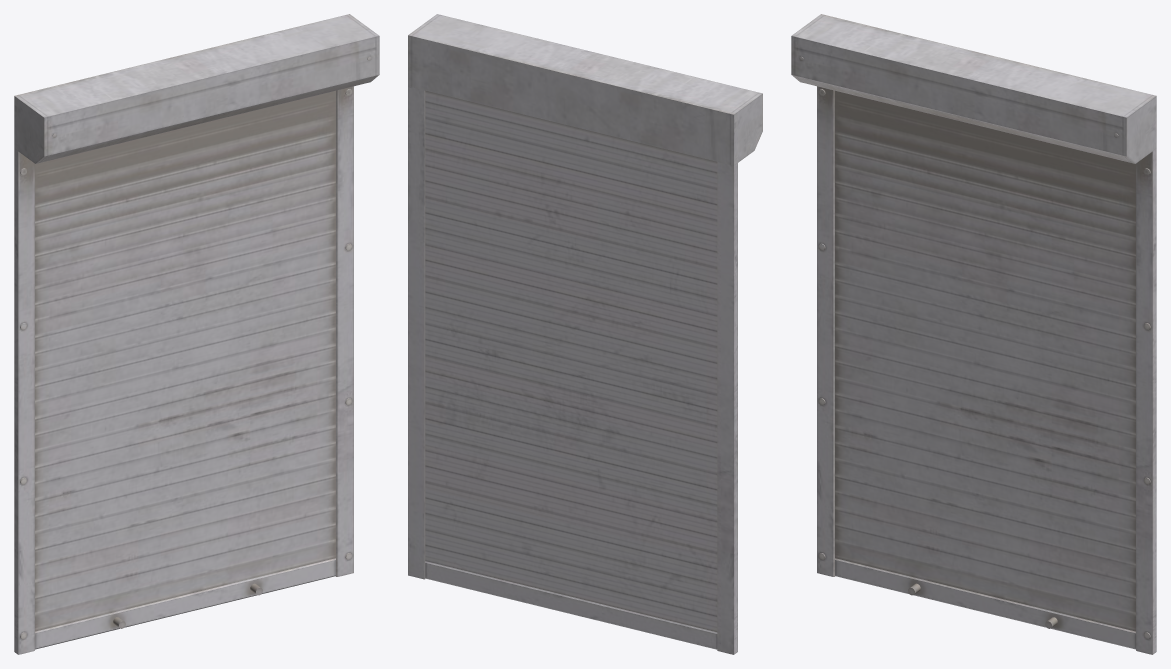
The model's file is rollershutter_window_03.glb.
3 renders of one model, left to right at view 1: azimuth 30°, elevation 25°; view 2: azimuth 150°, elevation 25°; view 3: azimuth 330°, elevation 25°, orthographic. The views are drawn at different scales.
Visible parts, largest first — view 1: JianghaiRollerShutterDoor; view 2: JianghaiRollerShutterDoor; view 3: JianghaiRollerShutterDoor.
Boxes of the visible parts, <box> form: JianghaiRollerShutterDoor: <box>14,14,379,654</box>; JianghaiRollerShutterDoor: <box>408,14,762,654</box>; JianghaiRollerShutterDoor: <box>791,14,1156,654</box>.
Bounding box in the file's own units: 0.9763 × 1.55 × 0.1531.
Materials: 1 (1 with a texture image).
